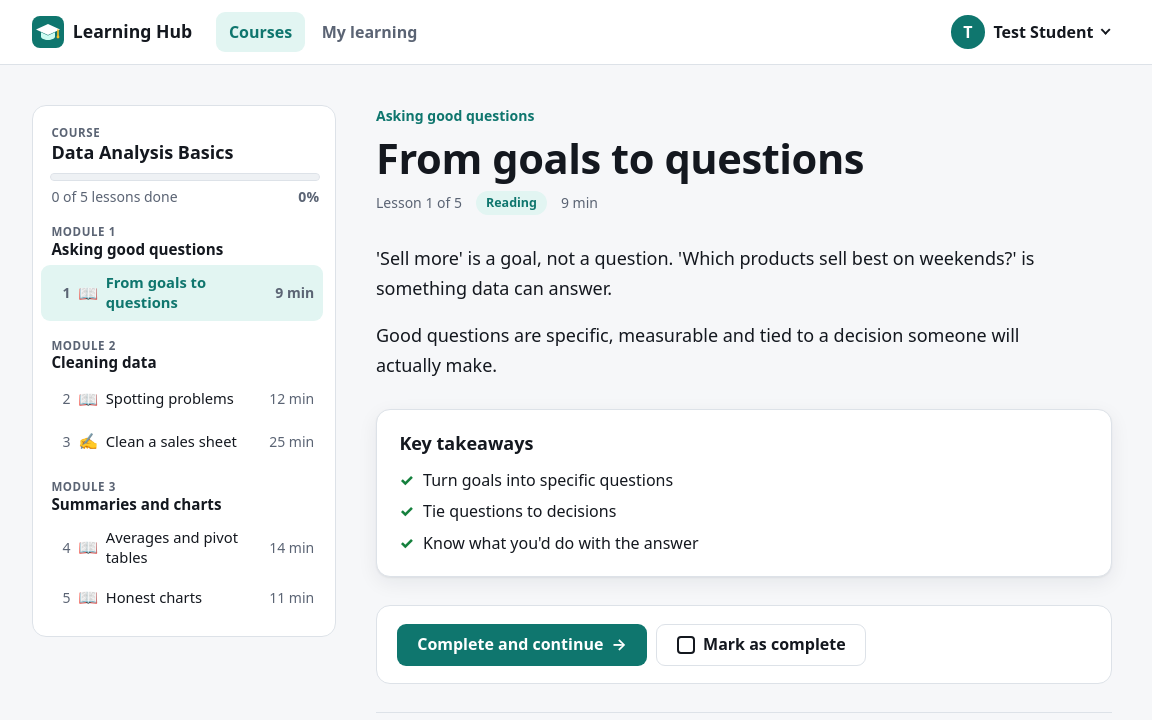
Test case: learning › finishes a course and shows the certificate
Click the button "Complete and continue →" at [522, 645], box [397,624,647,666]
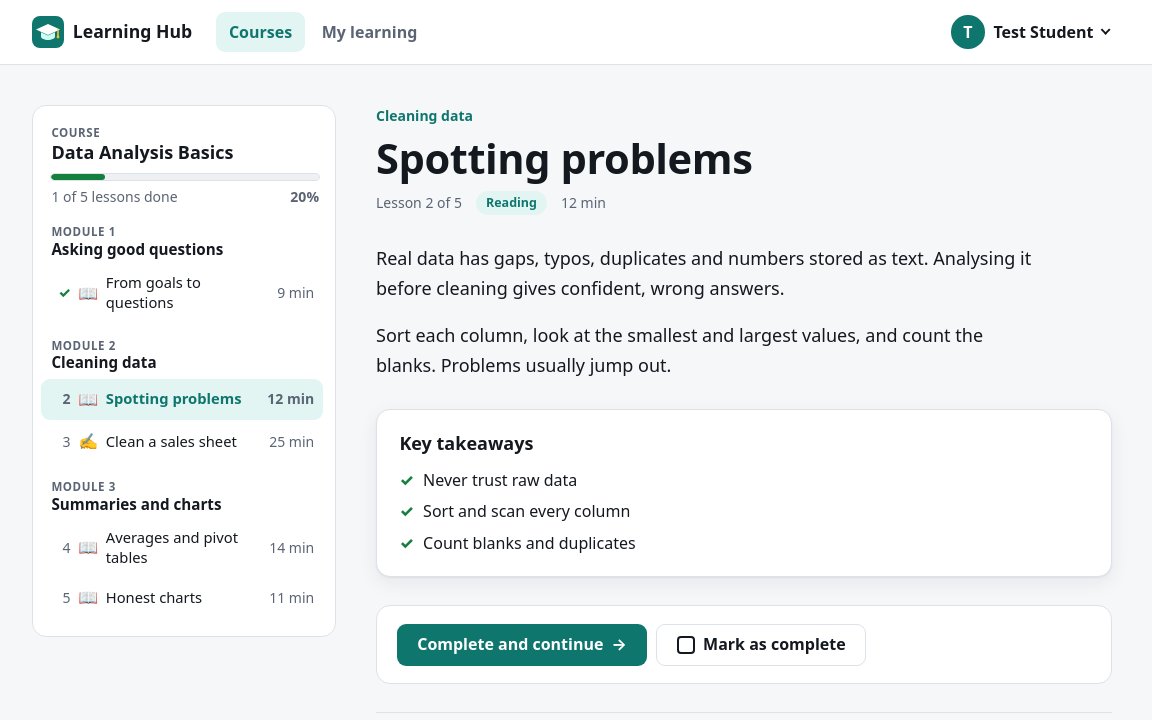
Click the button "Complete and continue →" at [522, 645], box [397,624,647,666]
(page scrolled)
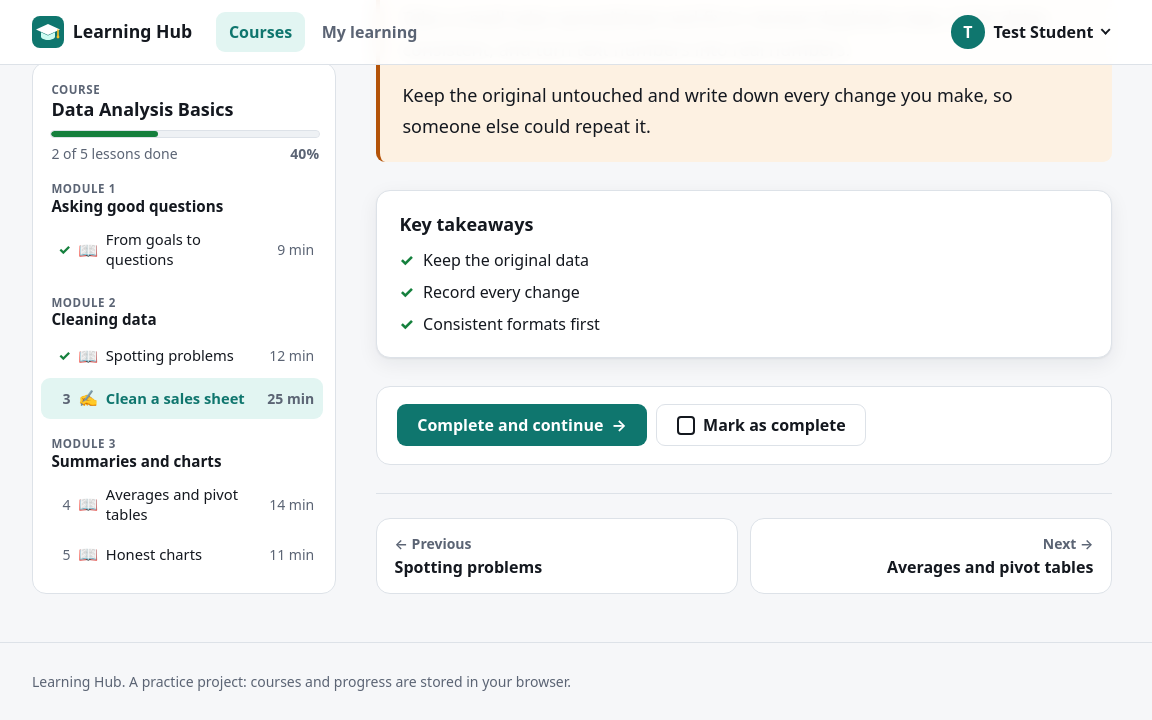
Click the button "Complete and continue →" at [522, 426], box [397,404,647,446]
(page scrolled)
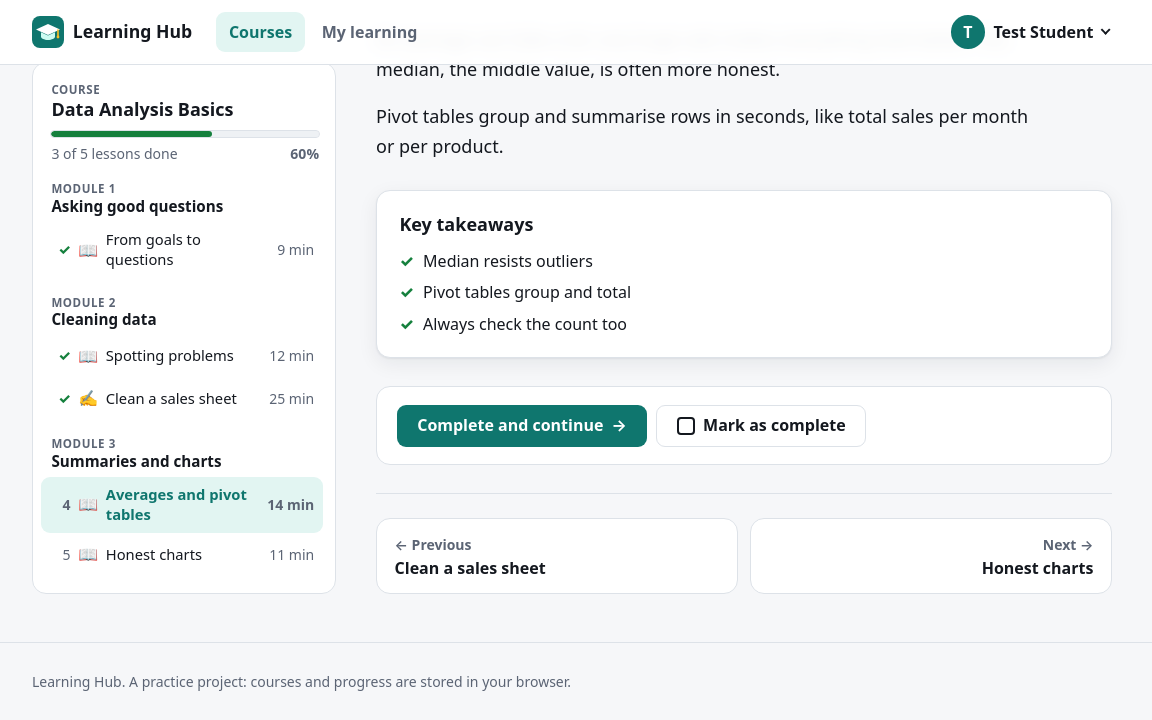
Click the button "Complete and continue →" at [522, 426], box [397,405,647,447]
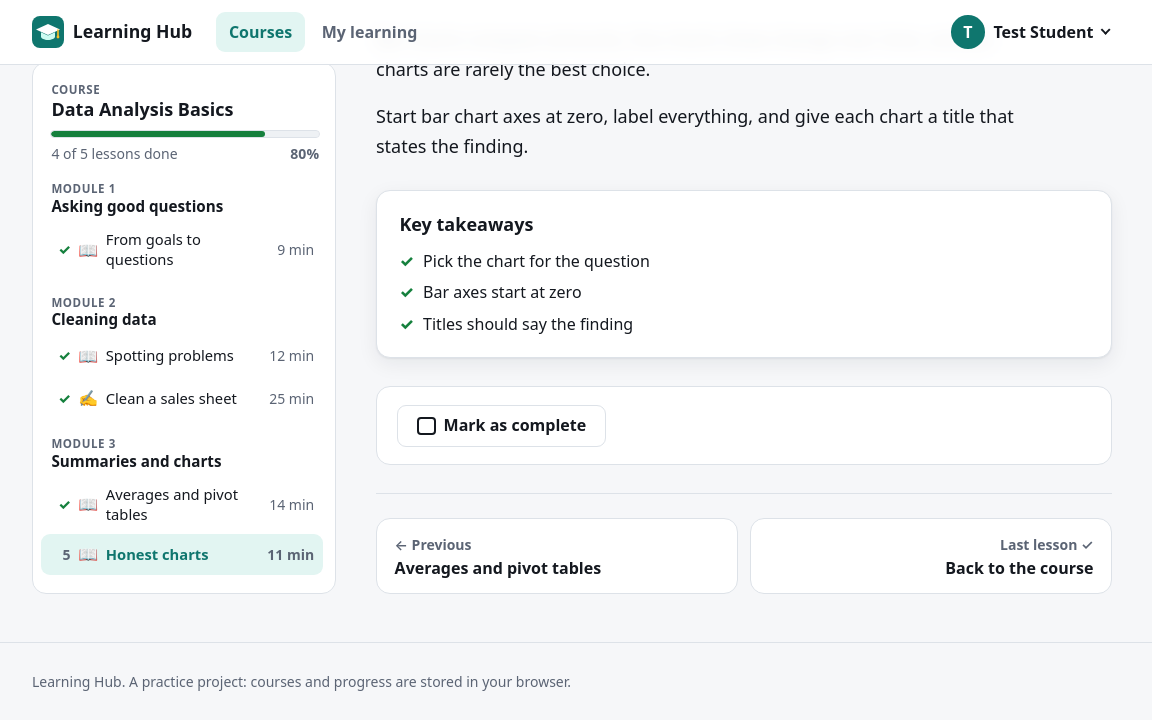
Click the button "Mark as complete" at [502, 426], box [397,405,606,447]
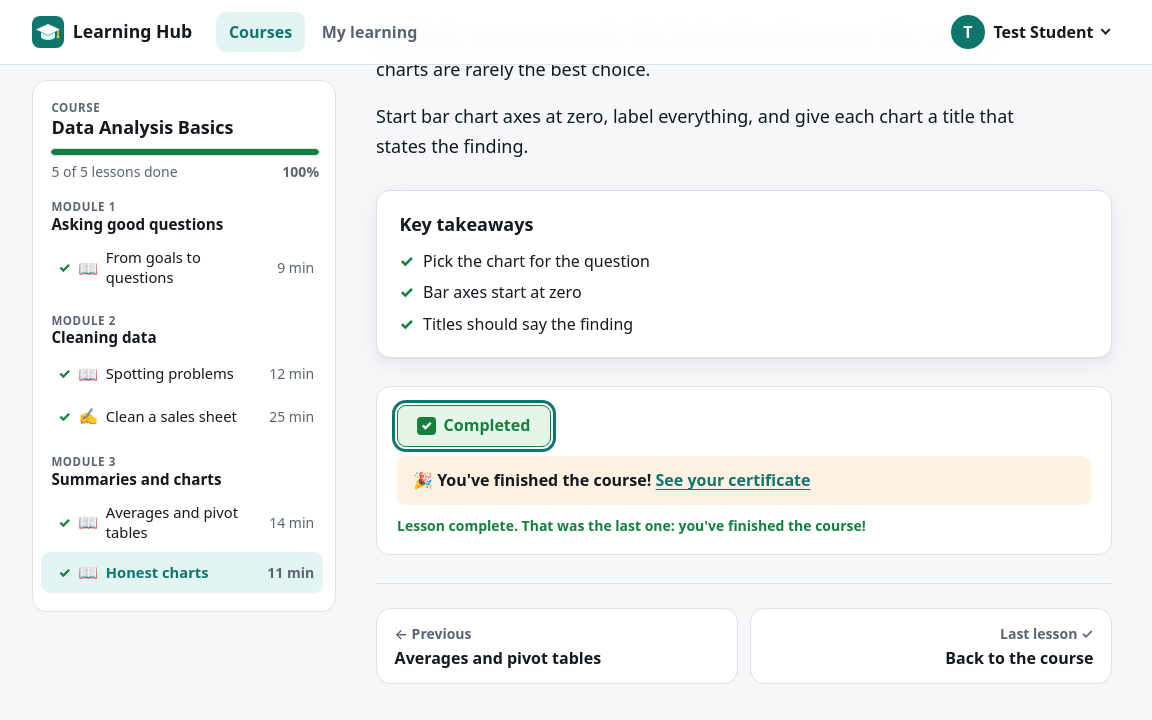
Result: the text "Lesson complete. That was the last one: you've finished the course!" is shown at [397,516,866,535]
Click the link "See your certificate" at [733, 480], box [656,469,810,491]
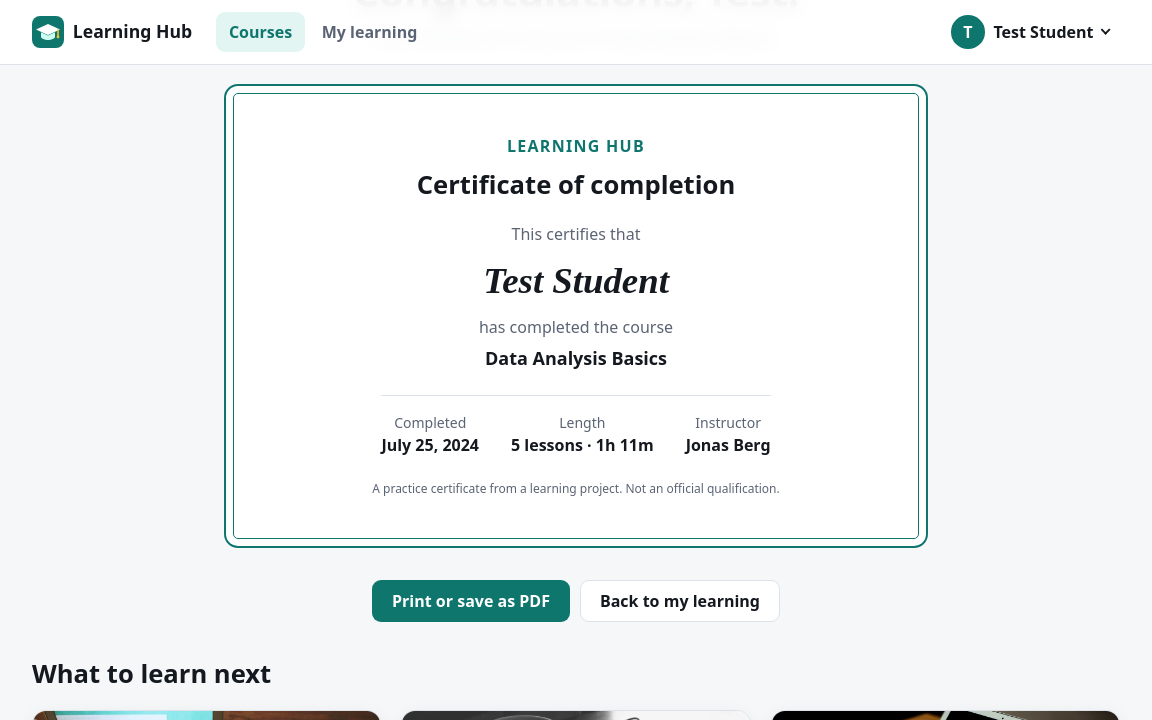
Result: the text "Test Student" is shown at [483,252,669,309]
Result: the text "Data Analysis Basics" is shown at [485,345,667,373]
